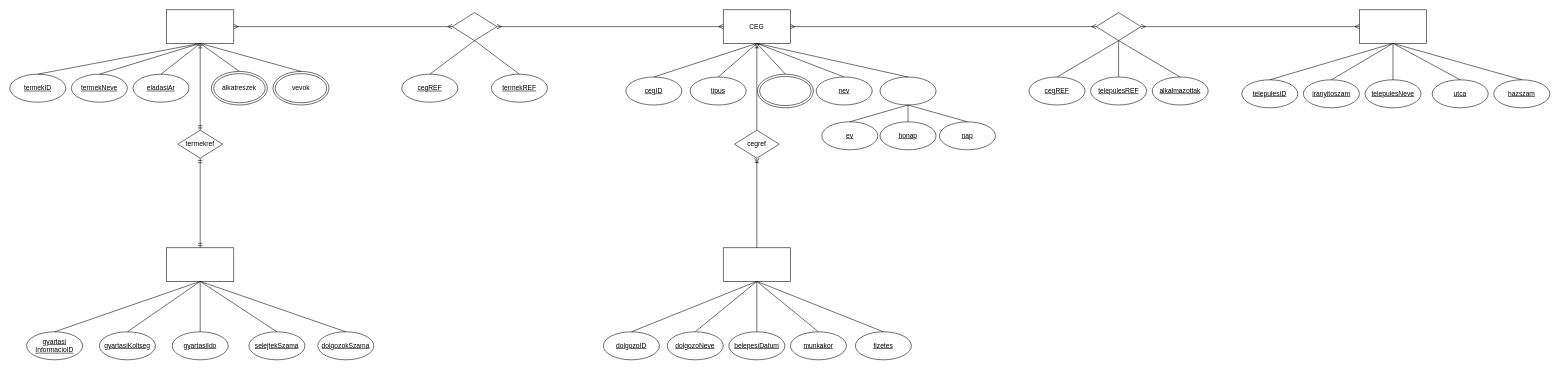
Image size: 1560x370. Some labels were removed from this diagram. The centre of each missing label's shape, as x and y in pixels:
alapitasIdeje: (x=907, y=90)
CEG_TELEPULES: (x=1118, y=26)
CEG_TERMEK: (x=474, y=26)
DOLGOZO: (x=756, y=264)
GYARTASI INFORMACIO: (x=200, y=264)
TELEPULES: (x=1393, y=26)
TERMEK: (x=200, y=26)
tulajdonosok: (x=785, y=91)
